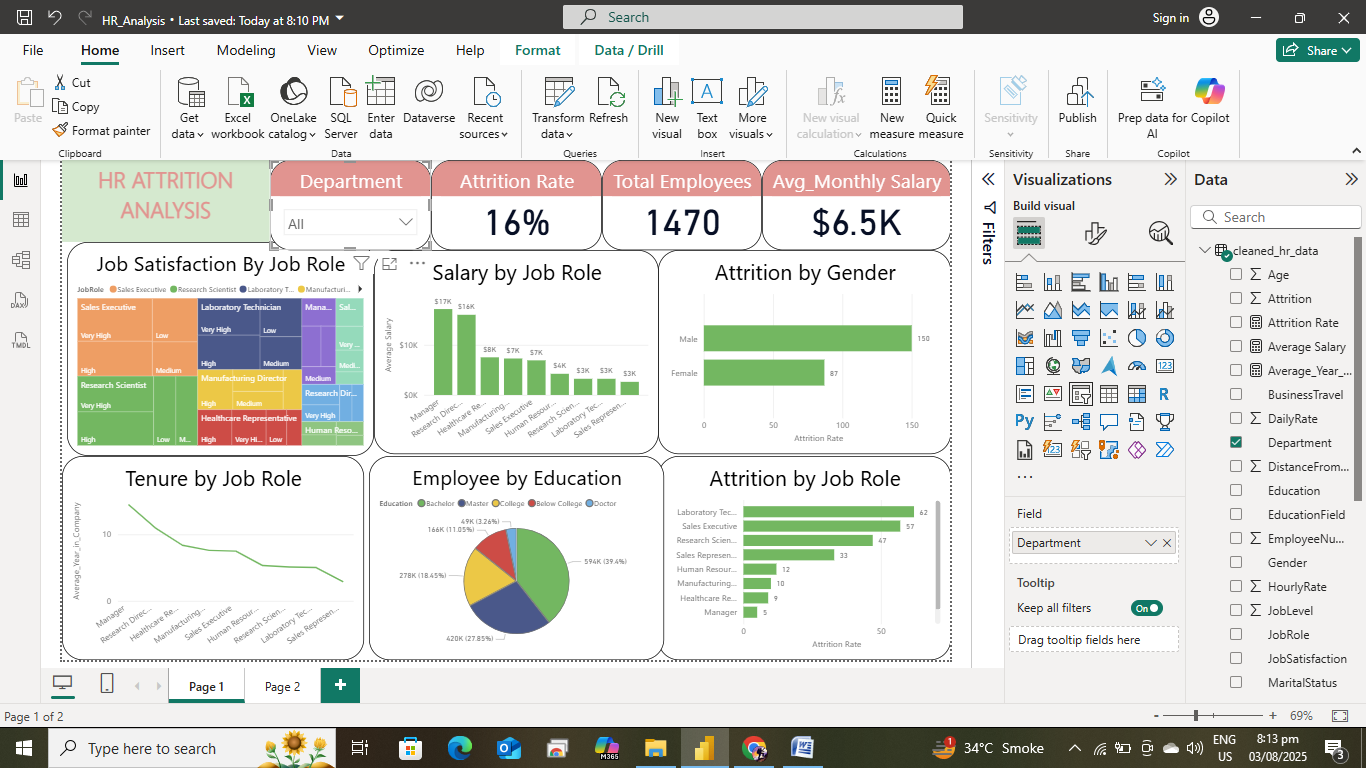

The page's visual inventory and layout, read from the dashboard file:
{"tool":"powerbi","page":{"name":"Page 1","canvas":[1280,720],"ordinal":0},"visuals":[{"type":"card","title":"Avg_Monthly  Salary","fields":{"Values":["cleaned_hr_data.Average Salary"]},"box":[1008,0,272.2,129.6],"z":0},{"type":"card","title":"Total Employees","fields":{"Values":["cleaned_hr_data.EmployeeNumber"]},"box":[777.6,0,230.4,129.6],"z":1000},{"type":"slicer","title":"Department","fields":{"Values":["cleaned_hr_data.Department"]},"box":[299.5,0,231.8,129.6],"z":2000},{"type":"card","title":"Attrition Rate","fields":{"Values":["cleaned_hr_data.Attrition Rate"]},"box":[531.4,0,246.2,129.6],"z":3000},{"type":"barChart","title":" Attrition by Gender","fields":{"Y":["cleaned_hr_data.Attrition"],"Category":["cleaned_hr_data.Gender"]},"box":[858.2,132.5,421.9,293.8],"z":4000},{"type":"barChart","title":"Attrition by Job Role","fields":{"Category":["cleaned_hr_data.JobRole"],"Y":["cleaned_hr_data.Attrition"]},"box":[858.2,426.2,421.9,293.8],"z":5000},{"type":"clusteredColumnChart","title":" Salary by Job Role","fields":{"Category":["cleaned_hr_data.JobRole"],"Y":["cleaned_hr_data.Average Salary"]},"box":[449.3,129.6,410.4,293.8],"z":6000},{"type":"treemap","title":"Job Satisfaction By Job Role","fields":{"Group":["cleaned_hr_data.JobRole"],"Values":["cleaned_hr_data.JobSatisfaction"],"Details":["cleaned_hr_data.JobSatisfaction"]},"box":[7.2,118.1,442.1,308.2],"z":7000},{"type":"lineChart","title":"Tenure by Job Role","fields":{"Category":["cleaned_hr_data.JobRole"],"Y":["cleaned_hr_data.Average_Year_in_Company"]},"box":[0,426.2,434.9,293.8],"z":8000},{"type":"pieChart","title":" Employee by Education","fields":{"Category":["cleaned_hr_data.Education"],"Y":["cleaned_hr_data.EmployeeNumber"]},"box":[442.1,426.2,424.8,293.8],"z":9000},{"type":"textbox","title":"HR ATTRITION","box":[0,0,299,117.6],"z":10000}]}

Visuals, with their boxes on the page's 1280x720 design canvas (x1, y1, x2, y2). These are canvas units, not pixel positions in the 1366x768 screenshot, which may show the page scaled, cropped or inside an application window:
"Avg_Monthly  Salary" card: <region>1008, 0, 1280, 130</region>
"Total Employees" card: <region>778, 0, 1008, 130</region>
"Department" slicer: <region>300, 0, 531, 130</region>
"Attrition Rate" card: <region>531, 0, 778, 130</region>
" Attrition by Gender" barChart: <region>858, 132, 1280, 426</region>
"Attrition by Job Role" barChart: <region>858, 426, 1280, 720</region>
" Salary by Job Role" clusteredColumnChart: <region>449, 130, 860, 423</region>
"Job Satisfaction By Job Role" treemap: <region>7, 118, 449, 426</region>
"Tenure by Job Role" lineChart: <region>0, 426, 435, 720</region>
" Employee by Education" pieChart: <region>442, 426, 867, 720</region>
"HR ATTRITION" textbox: <region>0, 0, 299, 118</region>
